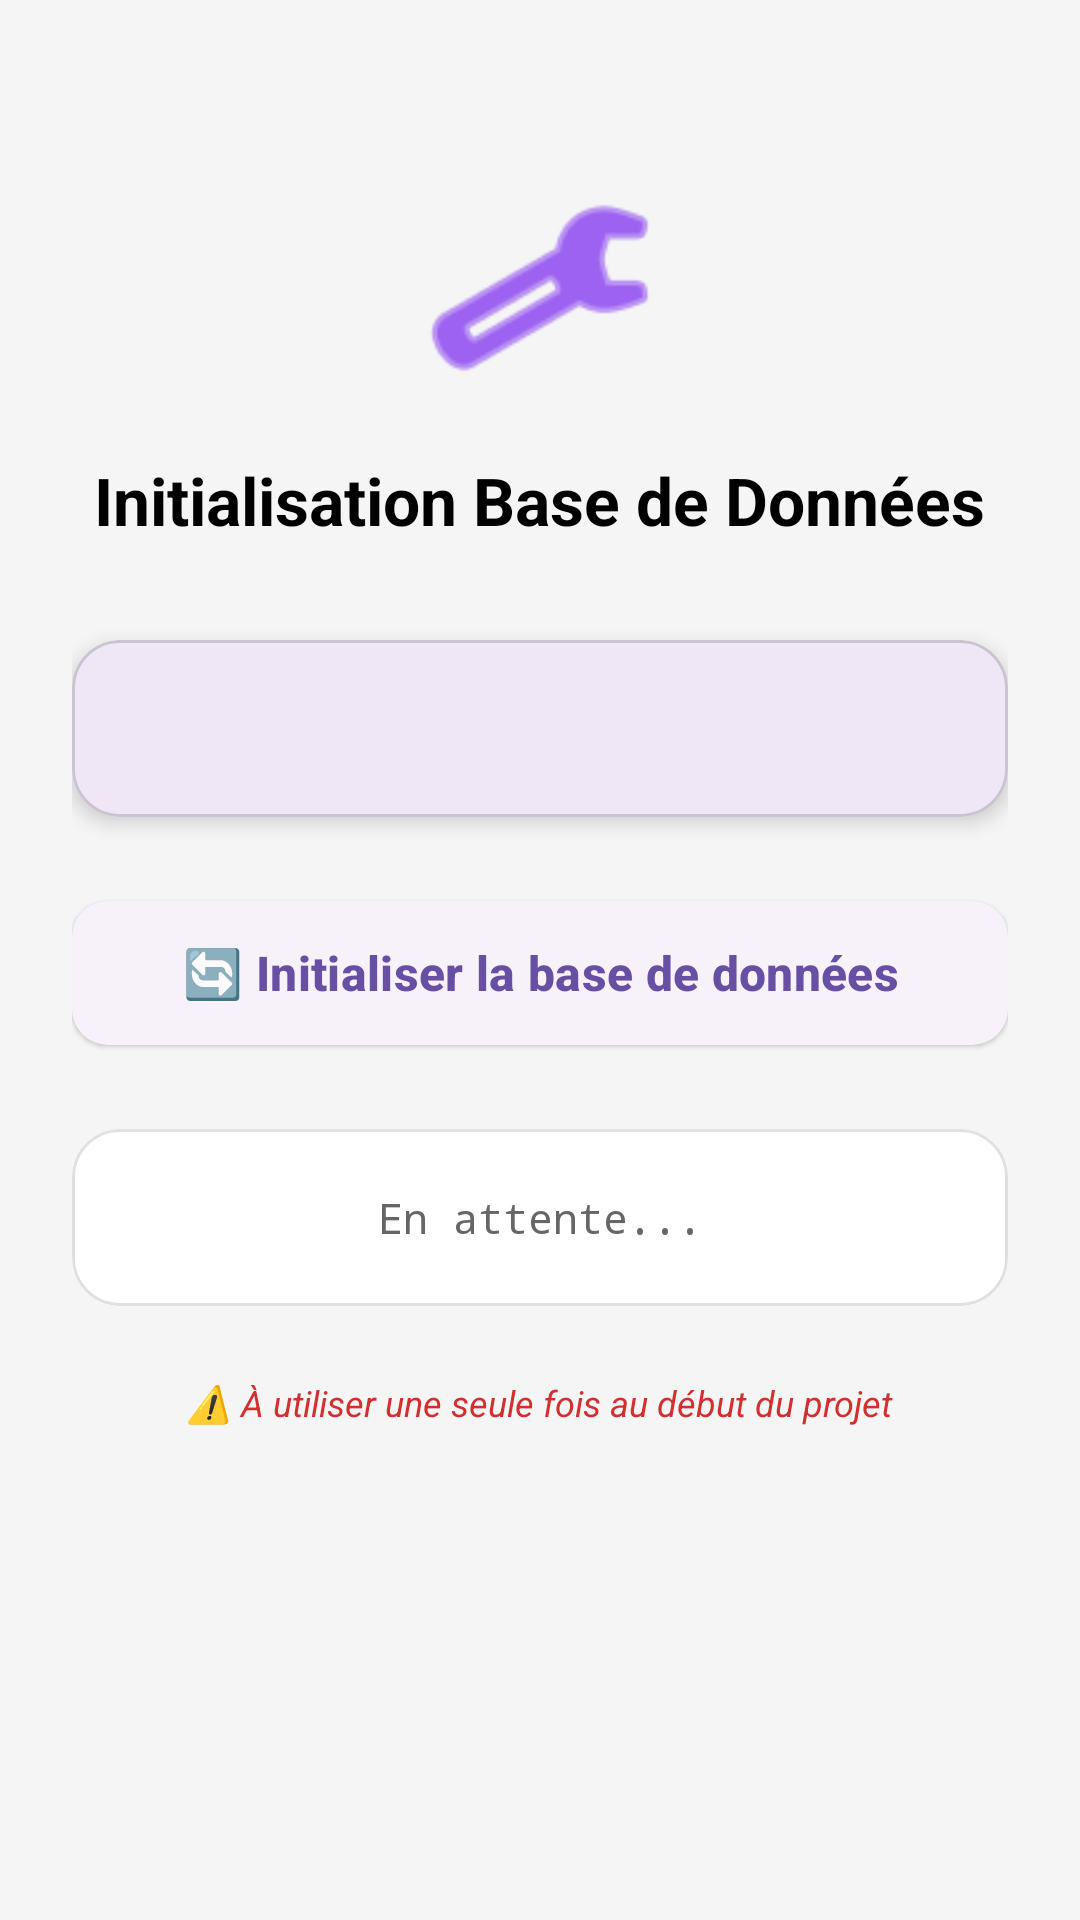

Point at icon controls on the screen. Image size 1080px x 1920px, points as (x=x, y=y).
manage: (x=540, y=288)
